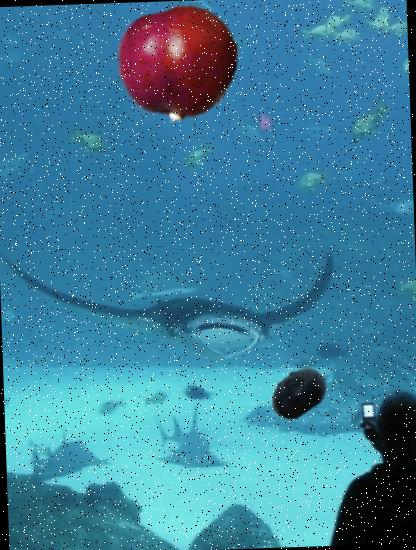Blueberry: (267, 362, 329, 424)
Nectarine: (117, 1, 242, 127)
